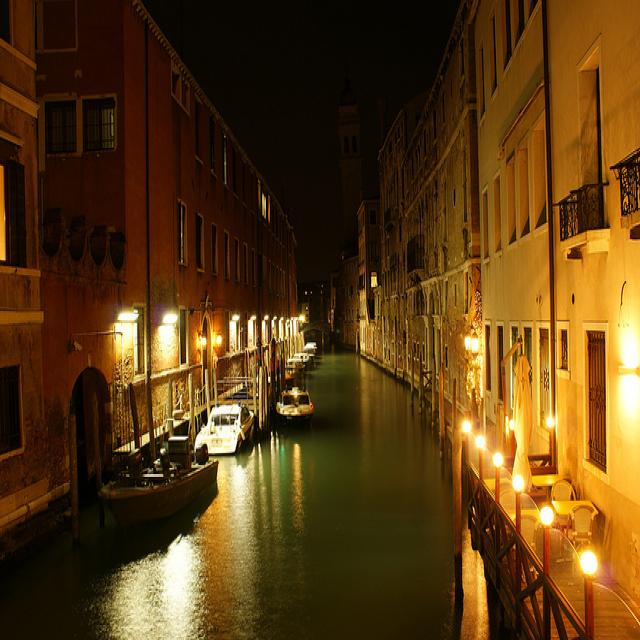Boat: (63, 371, 227, 528), (273, 379, 312, 438)
